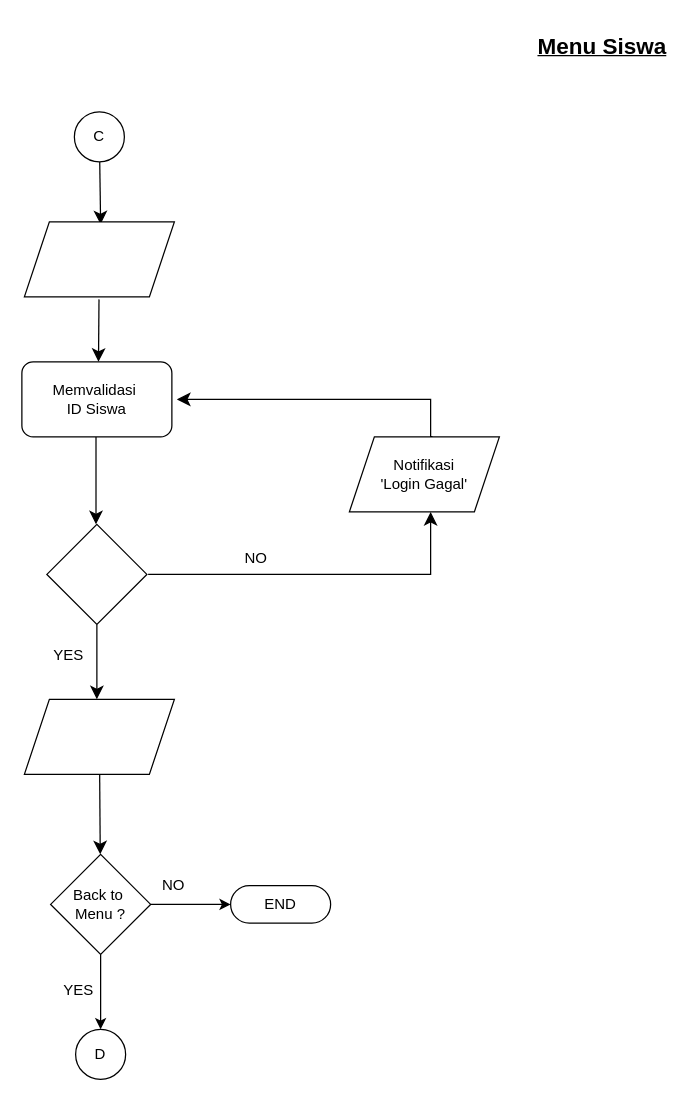
Image size: 699x1101. Some labels were removed from this diagram. Each missing label, with the box of its shape:
Input ID Siswa: (23, 221, 174, 297)
Laporan Data & Nilai Siswa: (23, 698, 174, 774)
True?: (46, 523, 147, 624)
